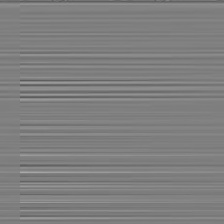cavities: (45, 50, 145, 224)
